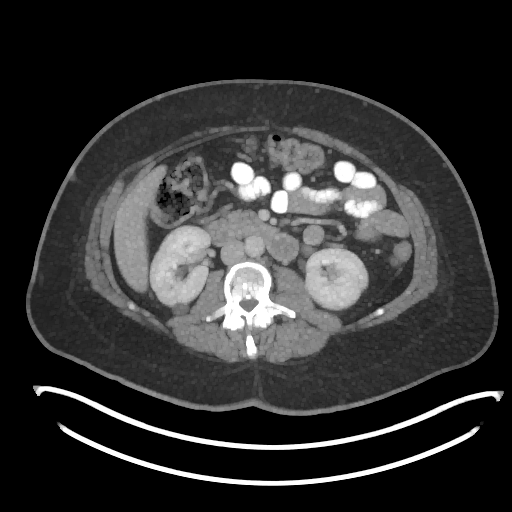Lesion: (170, 301, 191, 317)
